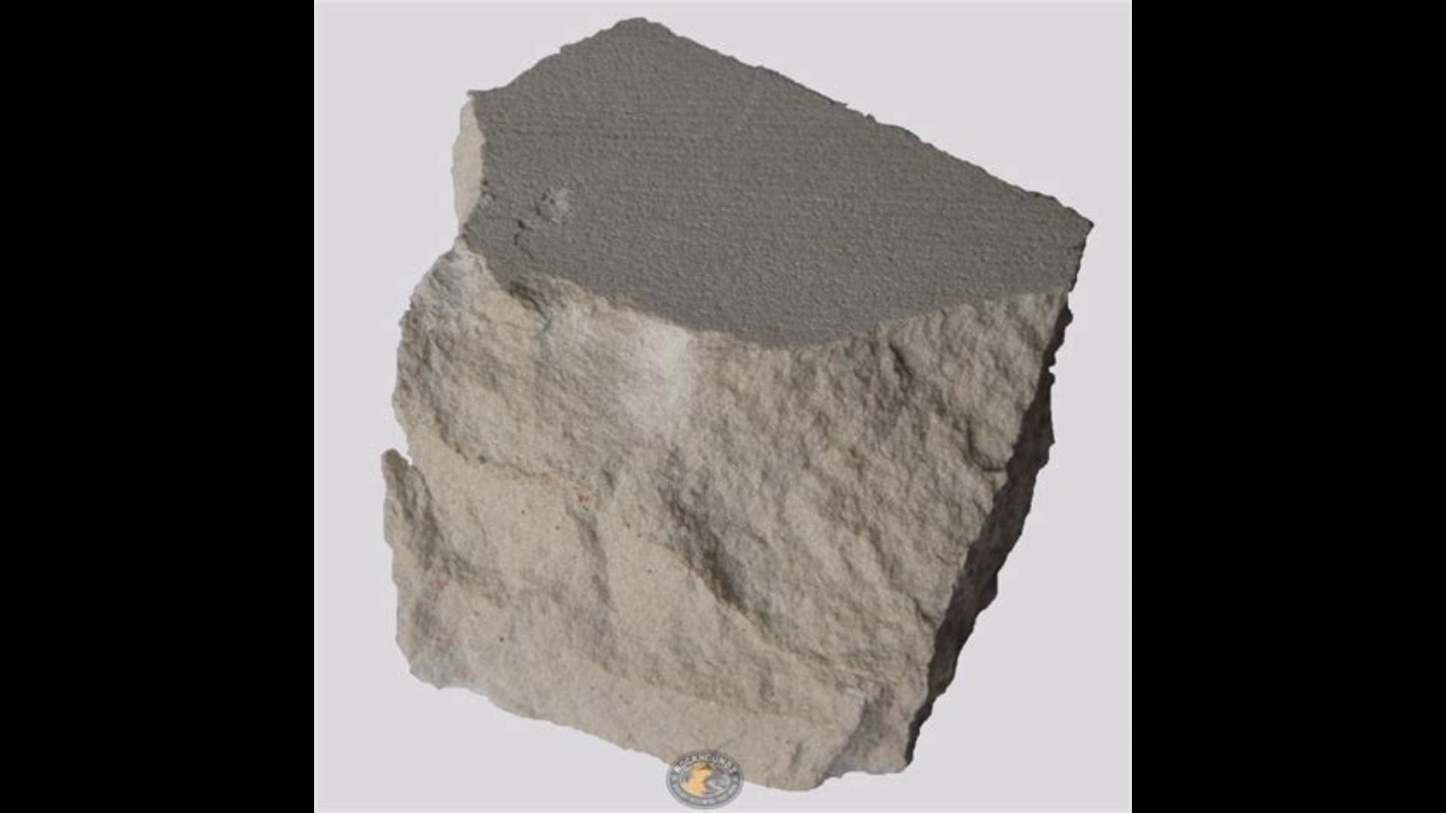rock: (383, 21, 1086, 784)
